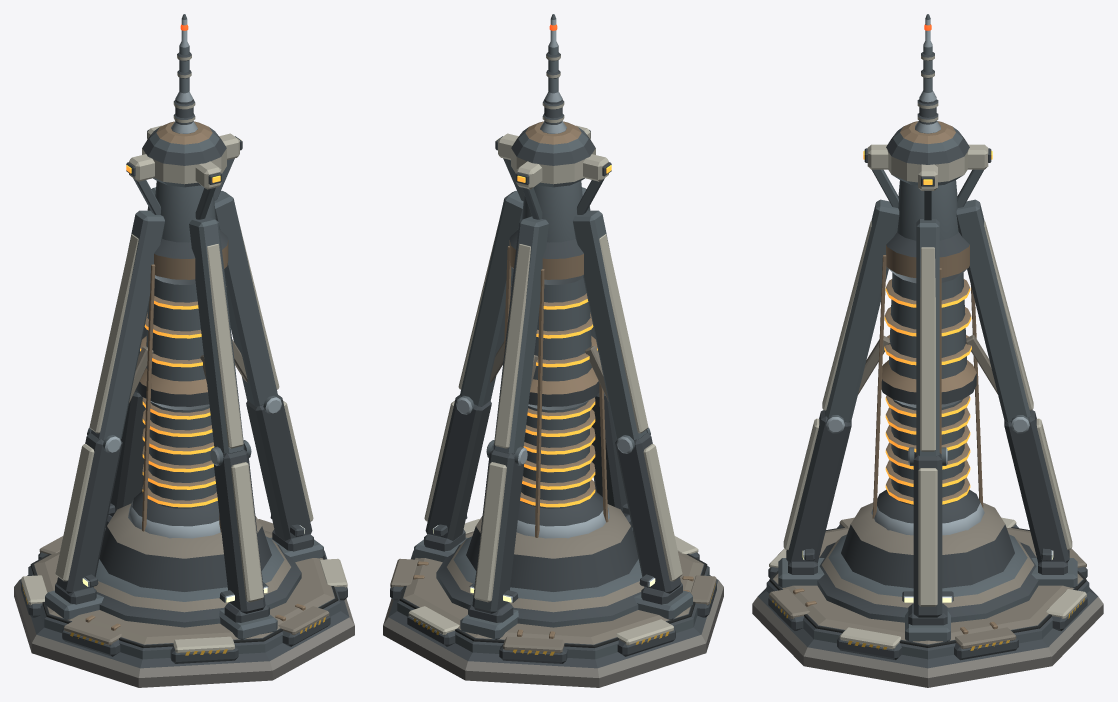
Rendered from extraction_beacon_spire.glb.
The picture shows the model from 3 angles, left to right: view 1: azimuth 30°, elevation 25°; view 2: azimuth 150°, elevation 25°; view 3: azimuth 270°, elevation 25°; orthographic projection.
Visible parts, largest first — view 1: extraction_beacon_spire; view 2: extraction_beacon_spire; view 3: extraction_beacon_spire.
Part boxes in pixels (bbox=[...]): extraction_beacon_spire: bbox=[14, 14, 354, 687]; extraction_beacon_spire: bbox=[383, 14, 723, 687]; extraction_beacon_spire: bbox=[752, 14, 1103, 687].
Bounding box in the file's own units: 14 × 26.33 × 14.
